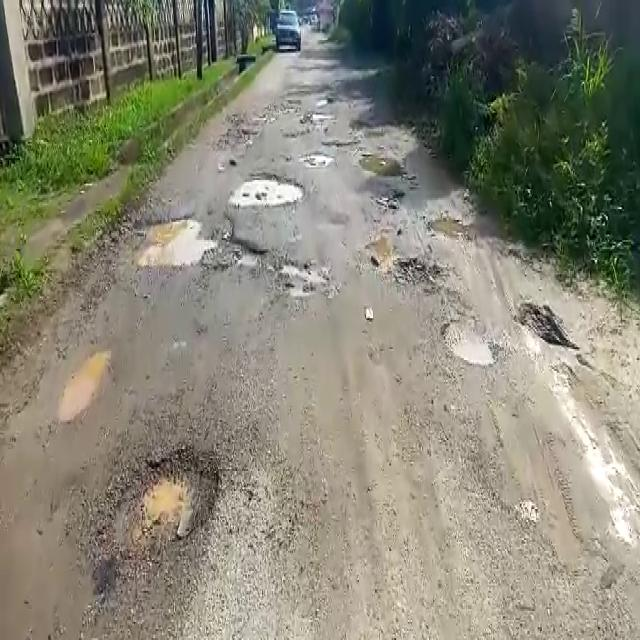Pothole: (102, 445, 225, 564), (130, 214, 260, 266), (442, 312, 499, 365), (228, 170, 306, 204), (274, 259, 327, 300), (301, 150, 335, 164)
